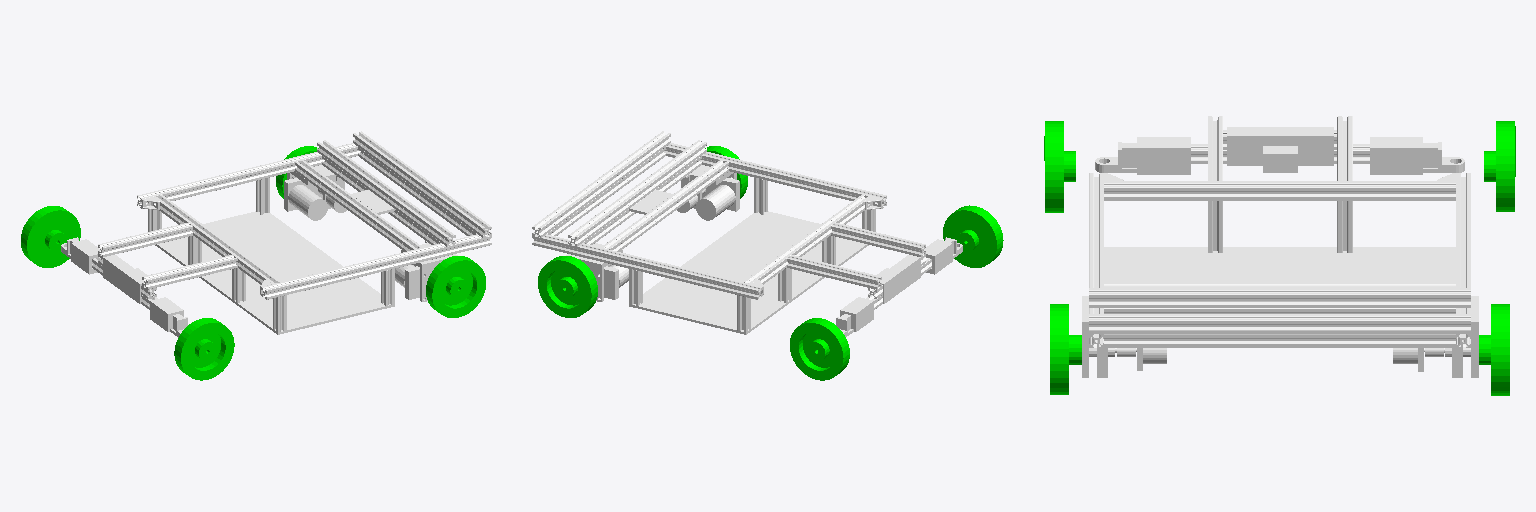
URDF robot description (AAAckermann):
<?xml version="1.0" encoding="utf-8"?>
<!-- This URDF was automatically created by SolidWorks to URDF Exporter! Originally created by [author] ([email redacted]) 
     Commit Version: 1.6.0-4-g7f85cfe  Build Version: 1.6.7995.38578
     For more information, please see http://wiki.ros.org/sw_urdf_exporter -->
<robot
  name="AAAckermann">
  <link
    name="base_link">
    <inertial>
      <origin
        xyz="-0.0651994405179663 4.22434509872449E-07 -0.0239634712761258"
        rpy="0 0 0" />
      <mass
        value="5.25555128497609" />
      <inertia
        ixx="0.0414328478617682"
        ixy="-1.82796488685318E-07"
        ixz="3.45960820664179E-07"
        iyy="0.0417152661425413"
        iyz="1.05010040923958E-07"
        izz="0.0821338918053197" />
    </inertial>
    <visual>
      <origin
        xyz="0 0 0"
        rpy="0 0 0" />
      <geometry>
        <mesh
          filename="package://AAAckermann/meshes/base_link.STL" />
      </geometry>
      <material
        name="">
        <color
          rgba="1 1 1 0.4" />
      </material>
    </visual>
    <collision>
      <origin
        xyz="0 0 0"
        rpy="0 0 0" />
      <geometry>
        <mesh
          filename="package://AAAckermann/meshes/base_link.STL" />
      </geometry>
    </collision>
  </link>
  <link
    name="front_left">
    <inertial>
      <origin
        xyz="3.8858E-15 -0.015274 4.6435E-14"
        rpy="0 0 0" />
      <mass
        value="0.24047" />
      <inertia
        ixx="0.00024514"
        ixy="5.4339E-21"
        ixz="-6.7763E-21"
        iyy="0.00045262"
        iyz="6.4709E-20"
        izz="0.00024514" />
    </inertial>
    <visual>
      <origin
        xyz="0 0 0"
        rpy="0 0 0" />
      <geometry>
        <mesh
          filename="package://AAAckermann/meshes/front_left.STL" />
      </geometry>
      <material
        name="">
        <color
          rgba="0 1 0 0.5" />
      </material>
    </visual>
    <collision>
      <origin
        xyz="0 0 0"
        rpy="0 0 0" />
      <geometry>
        <mesh
          filename="package://AAAckermann/meshes/front_left.STL" />
      </geometry>
    </collision>
  </link>
  <joint
    name="front_left_joint"
    type="continuous">
    <origin
      xyz="0.0190000000000679 0.301000000000045 -0.0695000000000887"
      rpy="3.14159265358979 0.0849179307157281 3.14159265358979" />
    <parent
      link="base_link" />
    <child
      link="front_left" />
    <axis
      xyz="0 1 0" />
  </joint>
  <link
    name="front_right">
    <inertial>
      <origin
        xyz="-2.9643E-14 0.025726 3.5749E-14"
        rpy="0 0 0" />
      <mass
        value="0.24047" />
      <inertia
        ixx="0.00024514"
        ixy="5.2554E-21"
        ixz="0"
        iyy="0.00045262"
        iyz="4.3994E-20"
        izz="0.00024514" />
    </inertial>
    <visual>
      <origin
        xyz="0 0 0"
        rpy="0 0 0" />
      <geometry>
        <mesh
          filename="package://AAAckermann/meshes/front_right.STL" />
      </geometry>
      <material
        name="">
        <color
          rgba="0 1 0 0.5" />
      </material>
    </visual>
    <collision>
      <origin
        xyz="0 0 0"
        rpy="0 0 0" />
      <geometry>
        <mesh
          filename="package://AAAckermann/meshes/front_right.STL" />
      </geometry>
    </collision>
  </link>
  <joint
    name="front_right_joint"
    type="continuous">
    <origin
      xyz="0.0190000000000679 -0.259999999999977 -0.0695000000000887"
      rpy="3.14159265358979 -0.692237011731428 0" />
    <parent
      link="base_link" />
    <child
      link="front_right" />
    <axis
      xyz="0 1 0" />
  </joint>
  <link
    name="left_steering">
    <inertial>
      <origin
        xyz="0.0121532099874294 -0.0166916241895938 -0.0211847288398316"
        rpy="0 0 0" />
      <mass
        value="0.0405602056975407" />
      <inertia
        ixx="1.43958495481578E-05"
        ixy="-1.73339990683825E-06"
        ixz="-7.11935154287877E-06"
        iyy="2.95171085845272E-05"
        iyz="2.08772590818048E-06"
        izz="3.10994722329793E-05" />
    </inertial>
    <visual>
      <origin
        xyz="0 0 0"
        rpy="0 0 0" />
      <geometry>
        <mesh
          filename="package://AAAckermann/meshes/left_steering.STL" />
      </geometry>
      <material
        name="">
        <color
          rgba="0.792156862745098 0.819607843137255 0.933333333333333 1" />
      </material>
    </visual>
    <collision>
      <origin
        xyz="0 0 0"
        rpy="0 0 0" />
      <geometry>
        <mesh
          filename="package://AAAckermann/meshes/left_steering.STL" />
      </geometry>
    </collision>
  </link>
  <joint
    name="left_steering_joint"
    type="continuous">
    <origin
      xyz="-0.544750000000063 0.229999999999977 -0.0837500000002837"
      rpy="3.14159265358979 0 -0.00209254658538632" />
    <parent
      link="base_link" />
    <child
      link="left_steering" />
    <axis
      xyz="0 0 1" />
  </joint>
  <link
    name="rear_left">
    <inertial>
      <origin
        xyz="-1.5192E-06 0.025619 0.006692"
        rpy="0 0 0" />
      <mass
        value="0.24047" />
      <inertia
        ixx="0.00024514"
        ixy="-4.9967E-09"
        ixz="-5.3615E-10"
        iyy="0.00045026"
        iyz="2.201E-05"
        izz="0.0002475" />
    </inertial>
    <visual>
      <origin
        xyz="0 0 0"
        rpy="0 0 0" />
      <geometry>
        <mesh
          filename="package://AAAckermann/meshes/rear_left.STL" />
      </geometry>
      <material
        name="">
        <color
          rgba="0 1 0 0.5" />
      </material>
    </visual>
    <collision>
      <origin
        xyz="0 0 0"
        rpy="0 0 0" />
      <geometry>
        <mesh
          filename="package://AAAckermann/meshes/rear_left.STL" />
      </geometry>
    </collision>
  </link>
  <joint
    name="rear_left_joint"
    type="continuous">
    <origin
      xyz="0 -0.0367488381424265 -0.0159999999999999"
      rpy="3.14159265358979 1.57056930363849 0" />
    <parent
      link="left_steering" />
    <child
      link="rear_left" />
    <axis
      xyz="0 1 0" />
  </joint>
  <link
    name="right_steering">
    <inertial>
      <origin
        xyz="-0.0138648104691156 -0.0152975676601856 -0.021184728839829"
        rpy="0 0 0" />
      <mass
        value="0.0405602056975408" />
      <inertia
        ixx="1.49389187707206E-05"
        ixy="3.30295116006257E-06"
        ixz="7.3015684371967E-06"
        iyy="2.89780797923847E-05"
        iyz="1.31491150207248E-06"
        izz="3.11035126633983E-05" />
    </inertial>
    <visual>
      <origin
        xyz="0 0 0"
        rpy="0 0 0" />
      <geometry>
        <mesh
          filename="package://AAAckermann/meshes/right_steering.STL" />
      </geometry>
      <material
        name="">
        <color
          rgba="0.792156862745098 0.819607843137255 0.933333333333333 1" />
      </material>
    </visual>
    <collision>
      <origin
        xyz="0 0 0"
        rpy="0 0 0" />
      <geometry>
        <mesh
          filename="package://AAAckermann/meshes/right_steering.STL" />
      </geometry>
    </collision>
  </link>
  <joint
    name="right_steering_joint"
    type="continuous">
    <origin
      xyz="-0.544750000000063 -0.230000000000023 -0.0837500000002836"
      rpy="3.14159265358979 0 -3.13242627228221" />
    <parent
      link="base_link" />
    <child
      link="right_steering" />
    <axis
      xyz="0 0 1" />
  </joint>
  <link
    name="rear_right">
    <inertial>
      <origin
        xyz="1.415E-10 0.025722 1.2793E-08"
        rpy="0 0 0" />
      <mass
        value="0.24047" />
      <inertia
        ixx="0.00024514"
        ixy="4.6696E-13"
        ixz="9.4021E-20"
        iyy="0.00045262"
        iyz="4.2319E-11"
        izz="0.00024514" />
    </inertial>
    <visual>
      <origin
        xyz="0 0 0"
        rpy="0 0 0" />
      <geometry>
        <mesh
          filename="package://AAAckermann/meshes/rear_right.STL" />
      </geometry>
      <material
        name="">
        <color
          rgba="0 1 0 0.5" />
      </material>
    </visual>
    <collision>
      <origin
        xyz="0 0 0"
        rpy="0 0 0" />
      <geometry>
        <mesh
          filename="package://AAAckermann/meshes/rear_right.STL" />
      </geometry>
    </collision>
  </link>
  <joint
    name="rear_right_joint"
    type="continuous">
    <origin
      xyz="0 -0.0370034448281129 -0.0159999999999995"
      rpy="3.14159265358979 -1.55976234848309 0" />
    <parent
      link="right_steering" />
    <child
      link="rear_right" />
    <axis
      xyz="0 1 0" />
  </joint>
</robot>

--- Facts derived from the render (not from the file) ---
3 views of the same robot in one strip: view 1: azimuth 30°, elevation 25°; view 2: azimuth 150°, elevation 25°; view 3: azimuth 270°, elevation 25° (orthographic).
Robot: AAAckermann — 7 links, 6 joints (6 continuous); root link base_link; default pose: all joints at 0.
Visible links, largest first — view 1: base_link, front_right, rear_right, rear_left; view 2: base_link, front_left, rear_left, rear_right; view 3: base_link, rear_left, rear_right, front_right, front_left.
Boxes of the visible links, x1,y1,x2,y2 form: base_link: (61, 131, 491, 337); front_right: (426, 256, 485, 317); rear_right: (174, 318, 234, 380); rear_left: (21, 206, 80, 267); base_link: (532, 131, 962, 336); front_left: (538, 256, 597, 317); rear_left: (790, 318, 849, 380); rear_right: (943, 205, 1003, 267); base_link: (1082, 116, 1478, 377); rear_left: (1484, 121, 1515, 211); rear_right: (1044, 121, 1075, 212); front_right: (1050, 304, 1081, 394); front_left: (1479, 304, 1509, 395).
Size in the robot's own frame: 0.7246 by 0.6167 by 0.1495 metres.
Meshes: 7 distinct files referenced, 5 mesh visuals loaded (5 binary STL); not drawn: 2 (reference not matched to a file when rendering).
